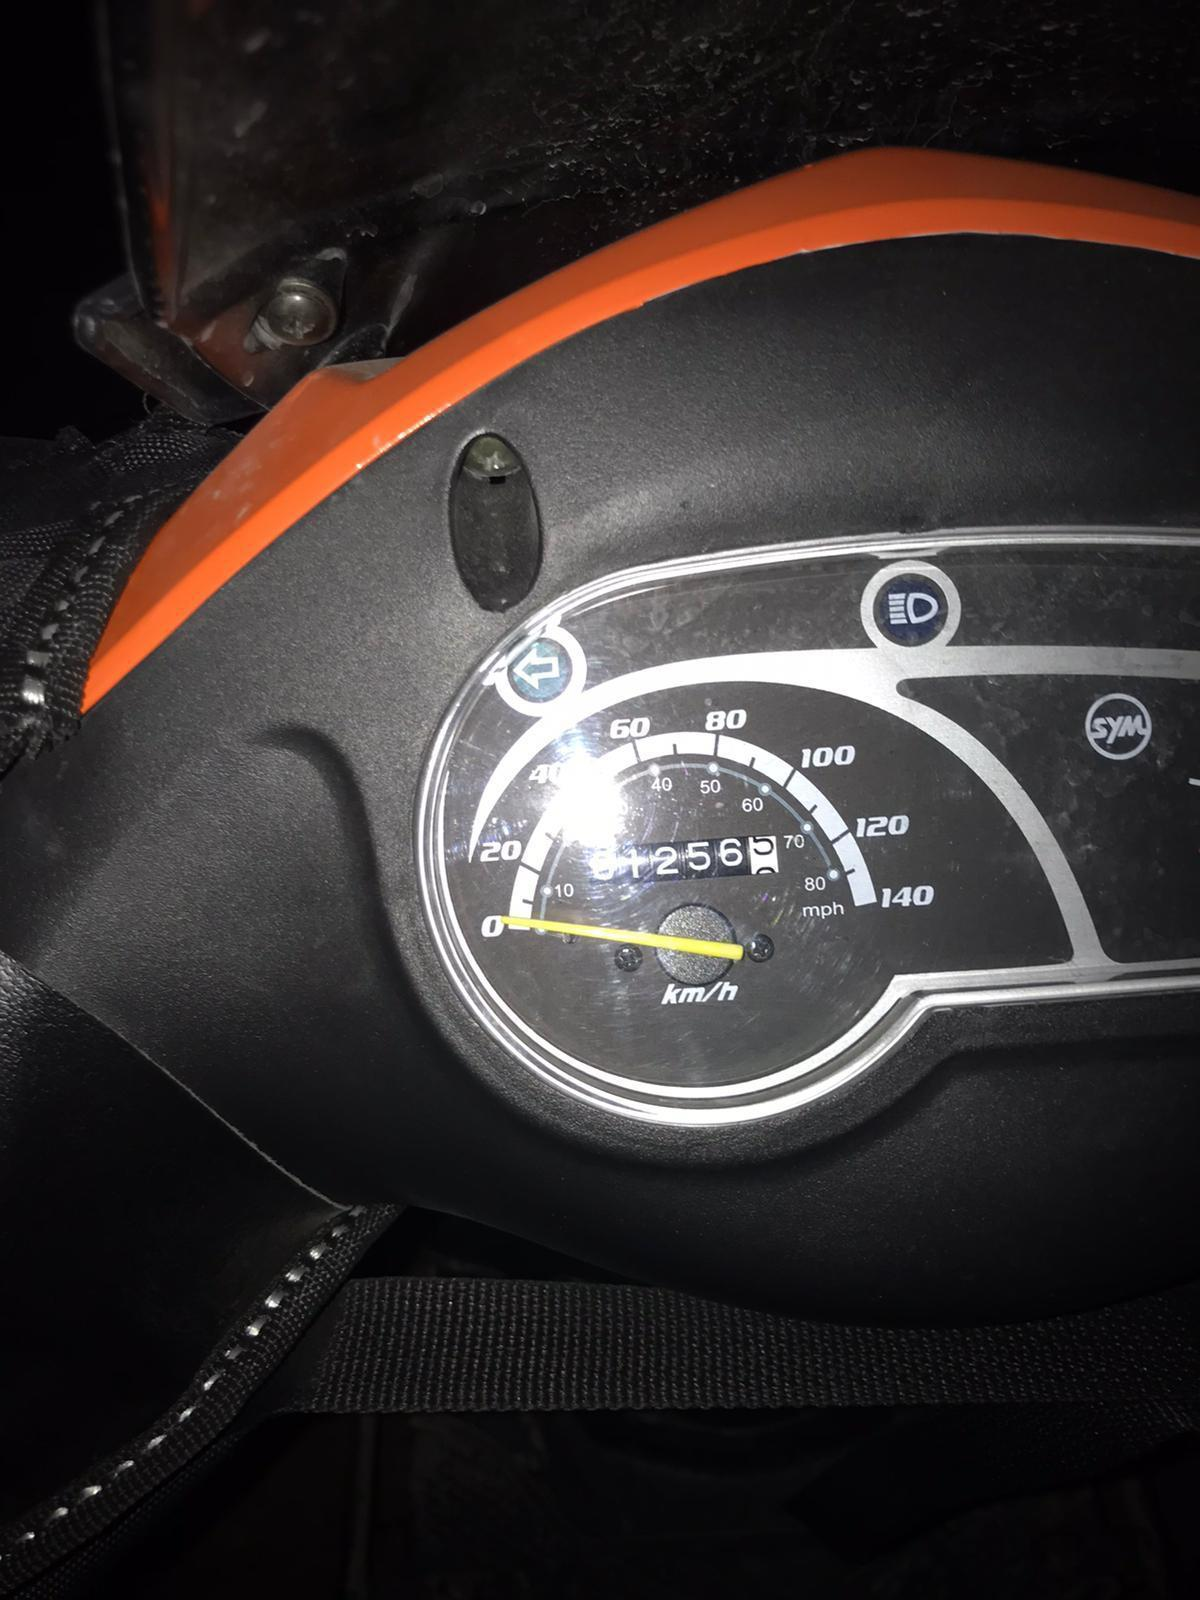0: (586, 844, 614, 888)
1: (623, 840, 644, 887)
2: (650, 842, 679, 883)
5: (684, 837, 711, 874), (751, 833, 778, 862)
6: (718, 834, 742, 873)
odometer: (579, 831, 783, 892)
